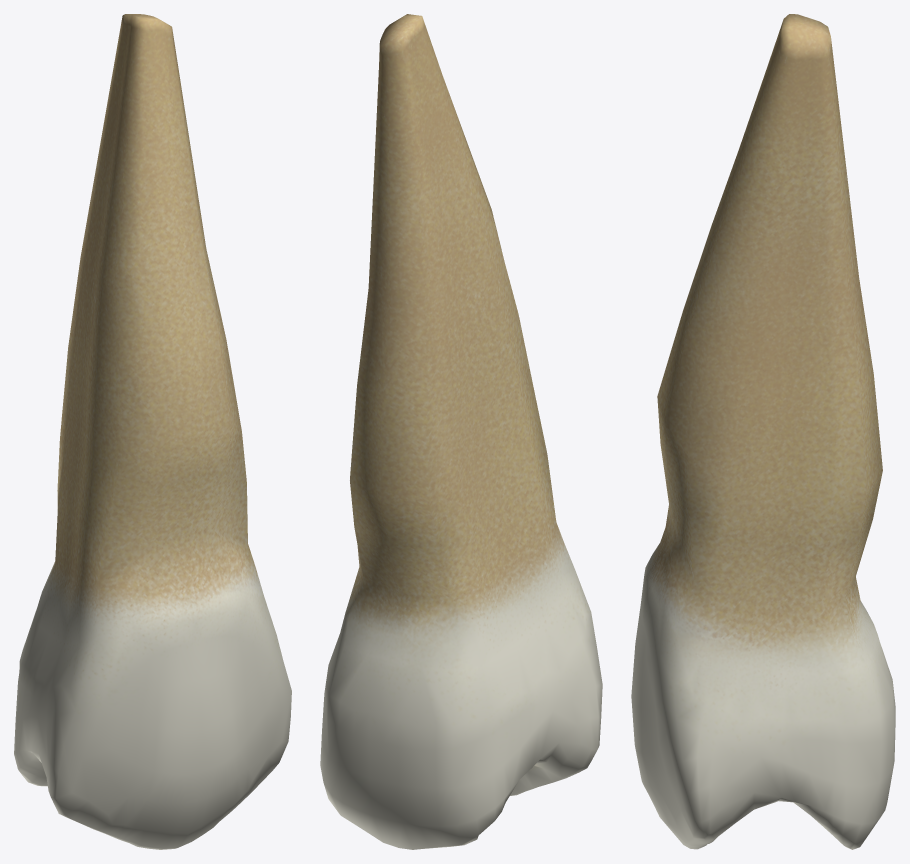
File: Human Teeth Upper Second Premolar.gltf
The picture shows the model from 3 angles, left to right: view 1: azimuth 30°, elevation 25°; view 2: azimuth 150°, elevation 25°; view 3: azimuth 270°, elevation 25°; orthographic projection. The views are drawn at different scales.
Visible parts, largest first — view 1: Human_Teeth_Upper_Second_Premolar_Geo; view 2: Human_Teeth_Upper_Second_Premolar_Geo; view 3: Human_Teeth_Upper_Second_Premolar_Geo.
Part boxes in pixels (left/top/right/bottom): Human_Teeth_Upper_Second_Premolar_Geo: left=14, top=14, right=291, bottom=849; Human_Teeth_Upper_Second_Premolar_Geo: left=320, top=14, right=602, bottom=849; Human_Teeth_Upper_Second_Premolar_Geo: left=631, top=14, right=895, bottom=849.
Size of the model in its own units: 1.64 by 5.28 by 1.52.
1 material, 1 textured.
